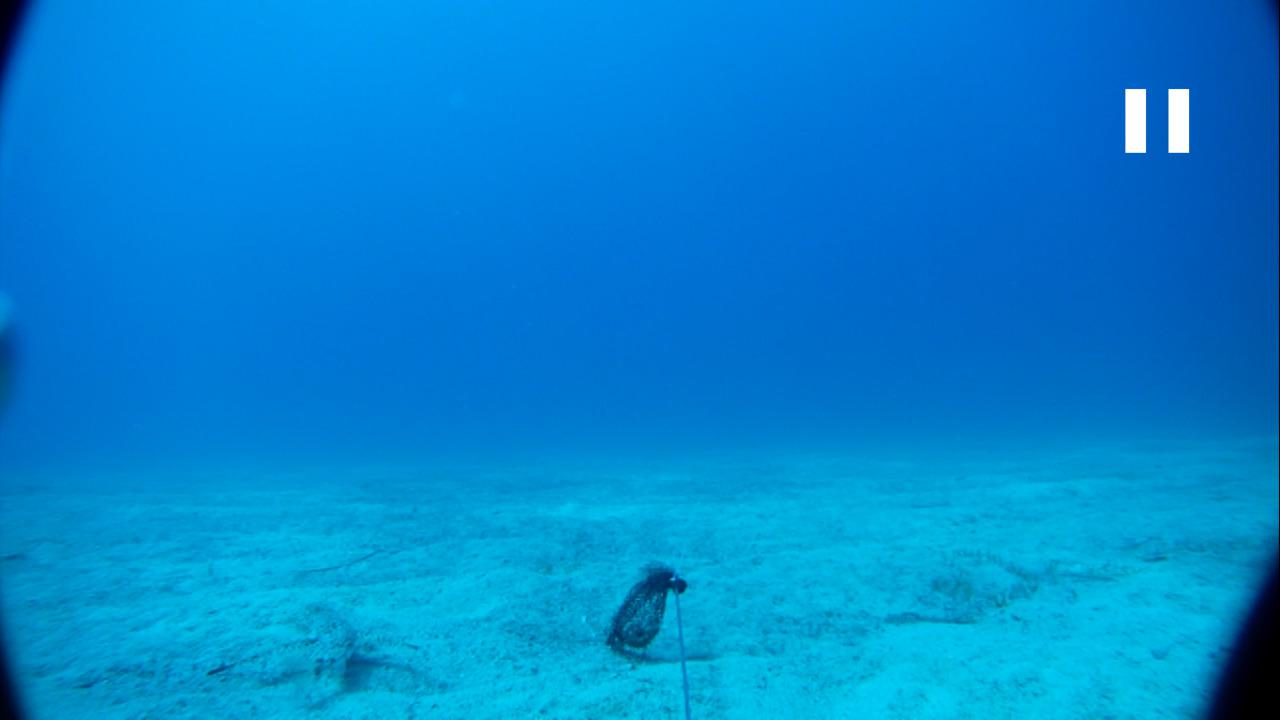dactylopterus: (257, 600, 404, 719)
